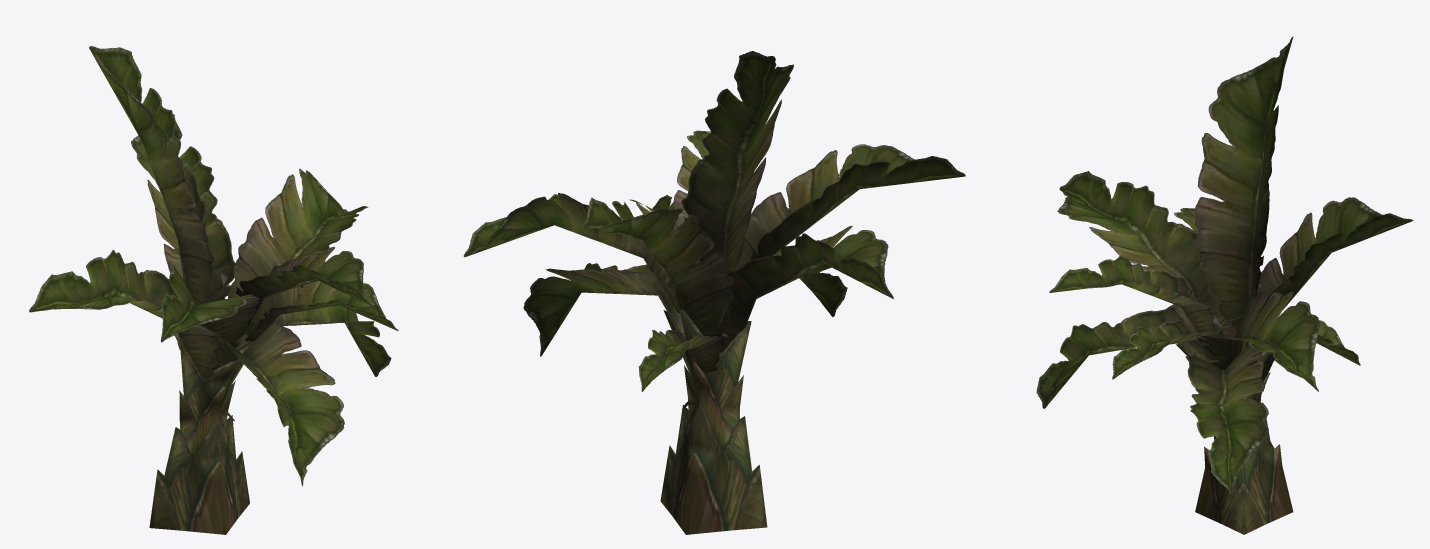
File: sholazarbroadleaf_bush02_dark.obj
3 views of the same model, side by side, from view 1: azimuth 30°, elevation 25°; view 2: azimuth 150°, elevation 25°; view 3: azimuth 270°, elevation 25° (orthographic). The views are drawn at different scales.
Parts seen in each view (by area): view 1: Geoset1, Geoset0; view 2: Geoset1, Geoset0; view 3: Geoset1, Geoset0.
Part boxes in pixels (bbox=[...]): Geoset1: bbox=[29, 46, 398, 486]; Geoset0: bbox=[149, 341, 253, 534]; Geoset1: bbox=[463, 51, 965, 406]; Geoset0: bbox=[660, 309, 767, 534]; Geoset1: bbox=[1036, 36, 1412, 493]; Geoset0: bbox=[1176, 344, 1293, 534].
Size of the model in its own units: 8.12 by 9.58 by 7.64.
2 materials, 2 textured.
